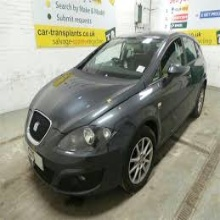no damage: (24, 31, 207, 191)
